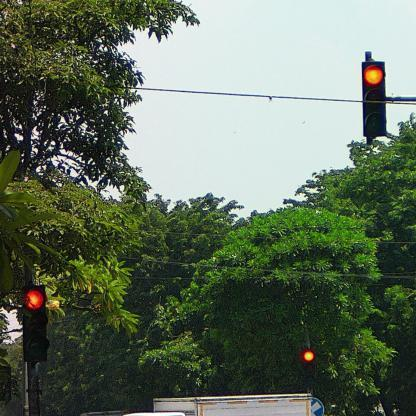red: (21, 284, 50, 360), (362, 59, 388, 137)
